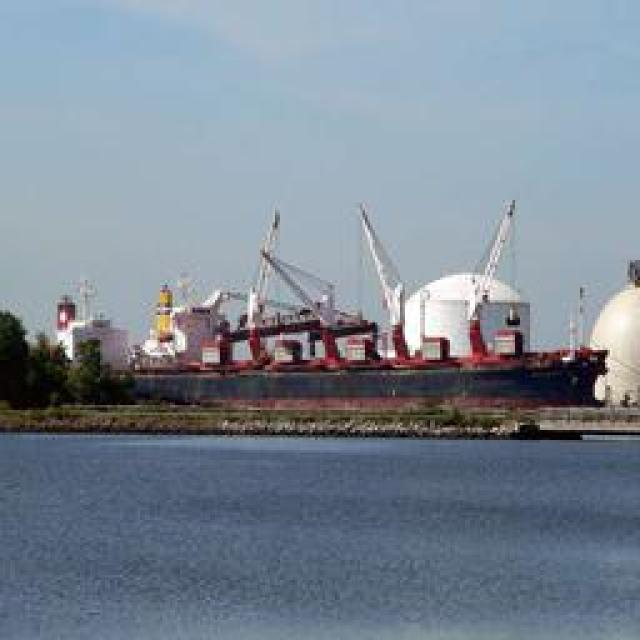CIV_Ship: (68, 202, 628, 416)
